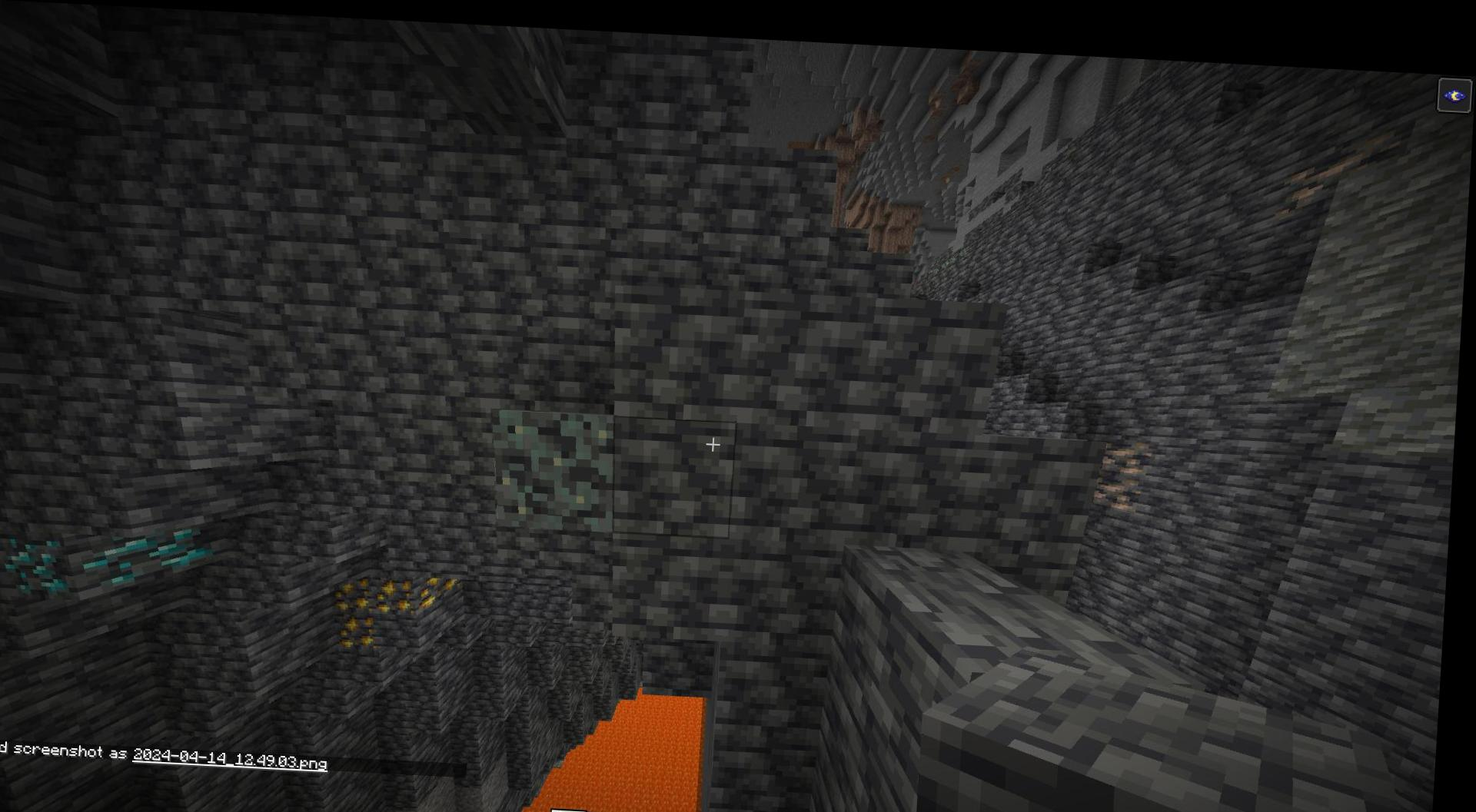diamond ore: (88, 515, 231, 598), (1, 530, 82, 602)
gold ore: (380, 569, 426, 611), (338, 570, 380, 614), (429, 561, 467, 608), (341, 609, 386, 648)
iron ore: (1280, 117, 1405, 207), (1095, 464, 1149, 504), (1103, 428, 1156, 467)
